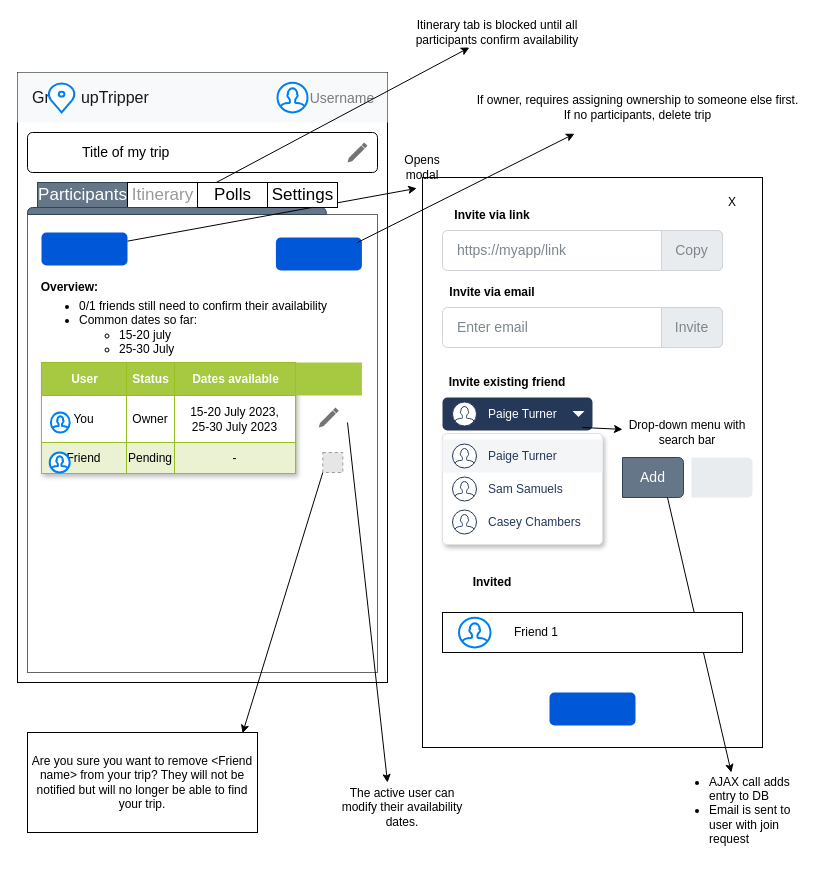
Some shapes in this 840 by 884 pixel diagram are drawn without their labels. Grey dashed boxes stand in for pictures. Each missing label, with the centre of its shape:
"Abandon trip" belongs at pixel 318 253.
"Action" belongs at pixel 328 378.
"Add friend" belongs at pixel 84 248.
"Cancel" belongs at pixel 721 477.
"Close" belongs at pixel 592 708.
